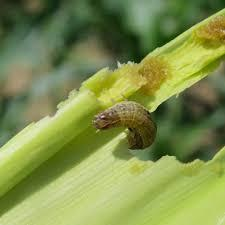fallarmy_worm: (91, 101, 159, 159)
